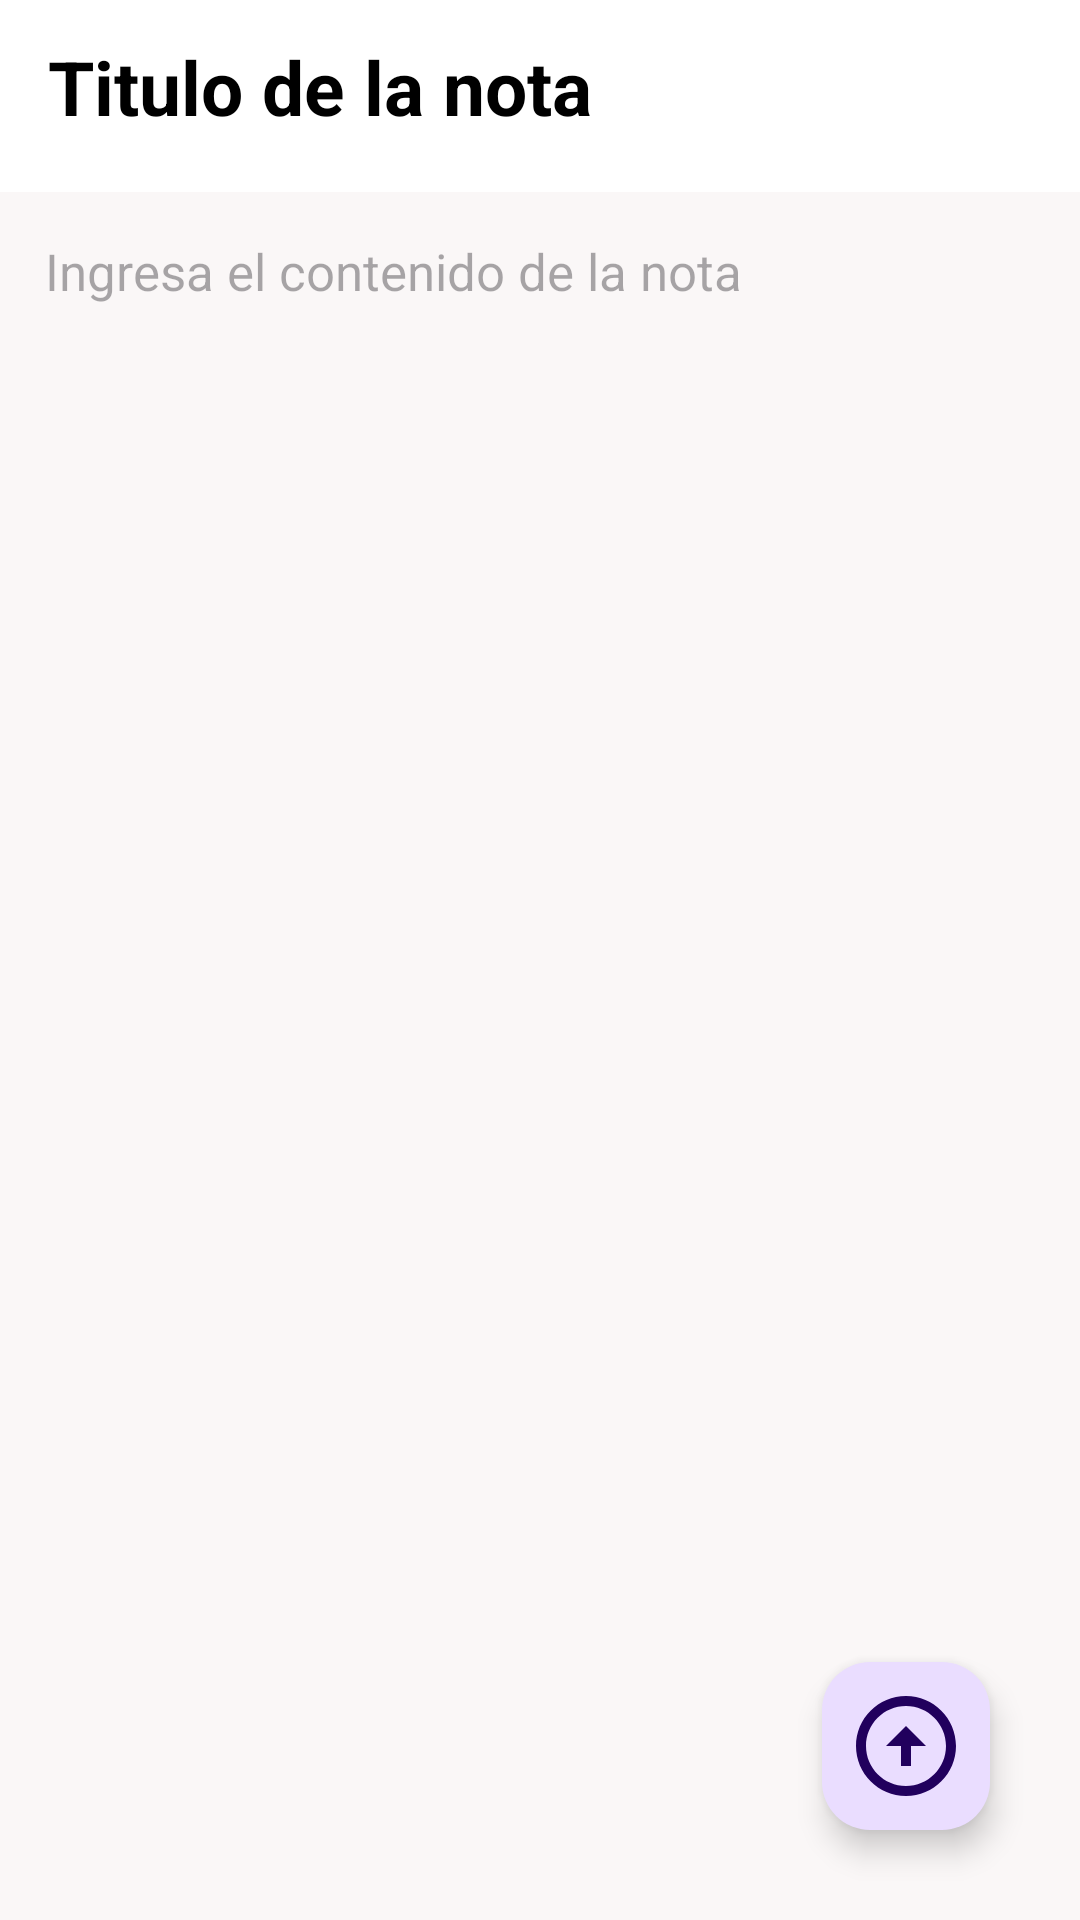

Where to tap for icons on this 1080 x 1920 app screen, as (x=x, y=y):
arrow circle up: (x=906, y=1746)
